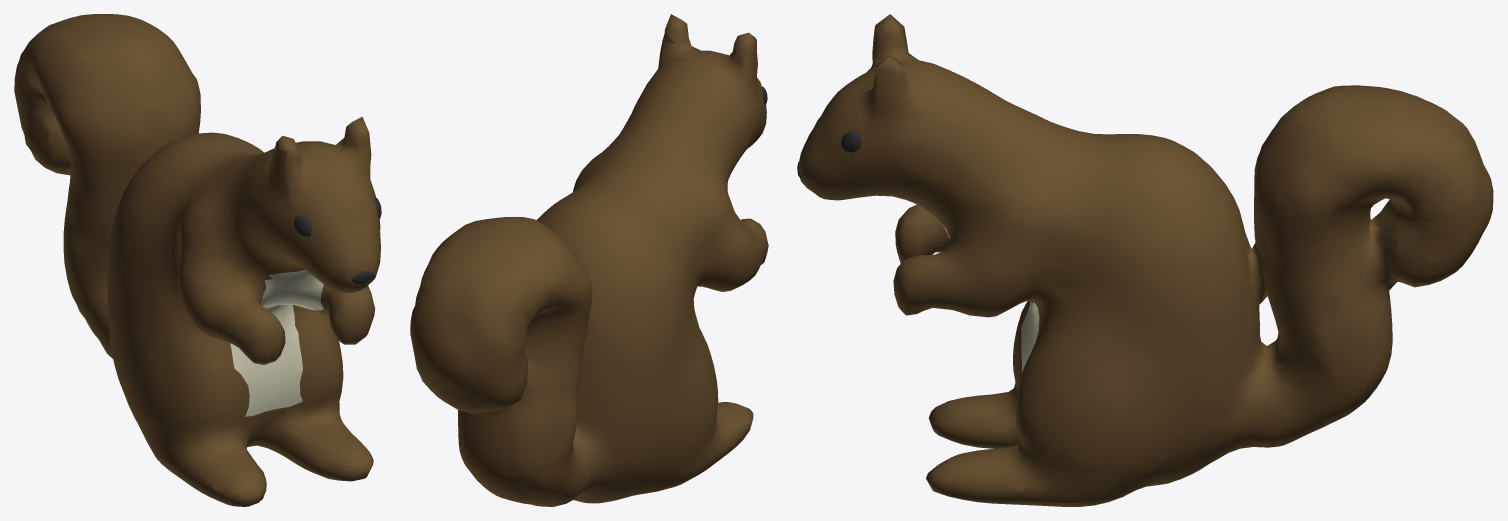
The model's file is Squirrel.glb.
3 views of the same model, side by side, from view 1: azimuth 30°, elevation 25°; view 2: azimuth 150°, elevation 25°; view 3: azimuth 270°, elevation 25° (orthographic). The views are drawn at different scales.
Parts seen in each view (by area): view 1: Squirrel; view 2: Squirrel; view 3: Squirrel.
Boxes of the visible parts, box(x1,y1,x2,y2) form: Squirrel: box(14, 14, 381, 506); Squirrel: box(410, 14, 768, 506); Squirrel: box(797, 14, 1493, 506).
Size of the model in its own units: 0.7264 by 1.46 by 2.08.
